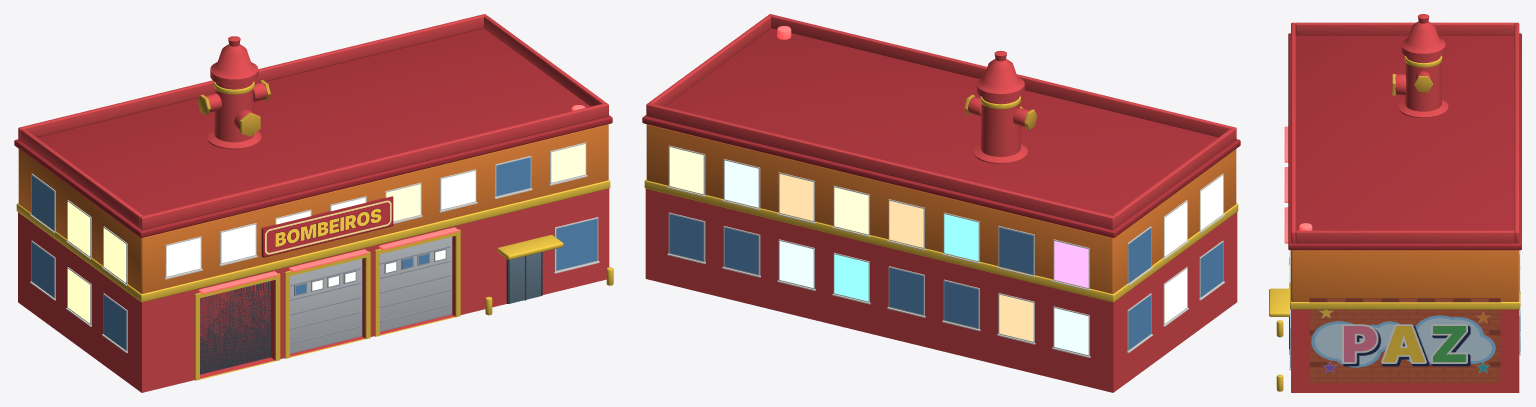
File: quartel_bombeiros.glb
The picture shows the model from 3 angles, left to right: view 1: azimuth 30°, elevation 25°; view 2: azimuth 150°, elevation 25°; view 3: azimuth 270°, elevation 25°; orthographic projection. The views are drawn at different scales.
Visible parts, largest first — view 1: quartel_bombeiros, portao_2, portao_3; view 2: quartel_bombeiros; view 3: quartel_bombeiros.
Boxes of the visible parts, x1=… form: quartel_bombeiros: x1=14, y1=14, x2=613, y2=392; portao_2: x1=290, y1=259, x2=362, y2=353; portao_3: x1=380, y1=237, x2=452, y2=331; quartel_bombeiros: x1=642, y1=14, x2=1240, y2=392; quartel_bombeiros: x1=1269, y1=14, x2=1521, y2=392.
Size of the model in its own units: 27.3 by 14.53 by 13.75.
12 materials, 3 textured.
